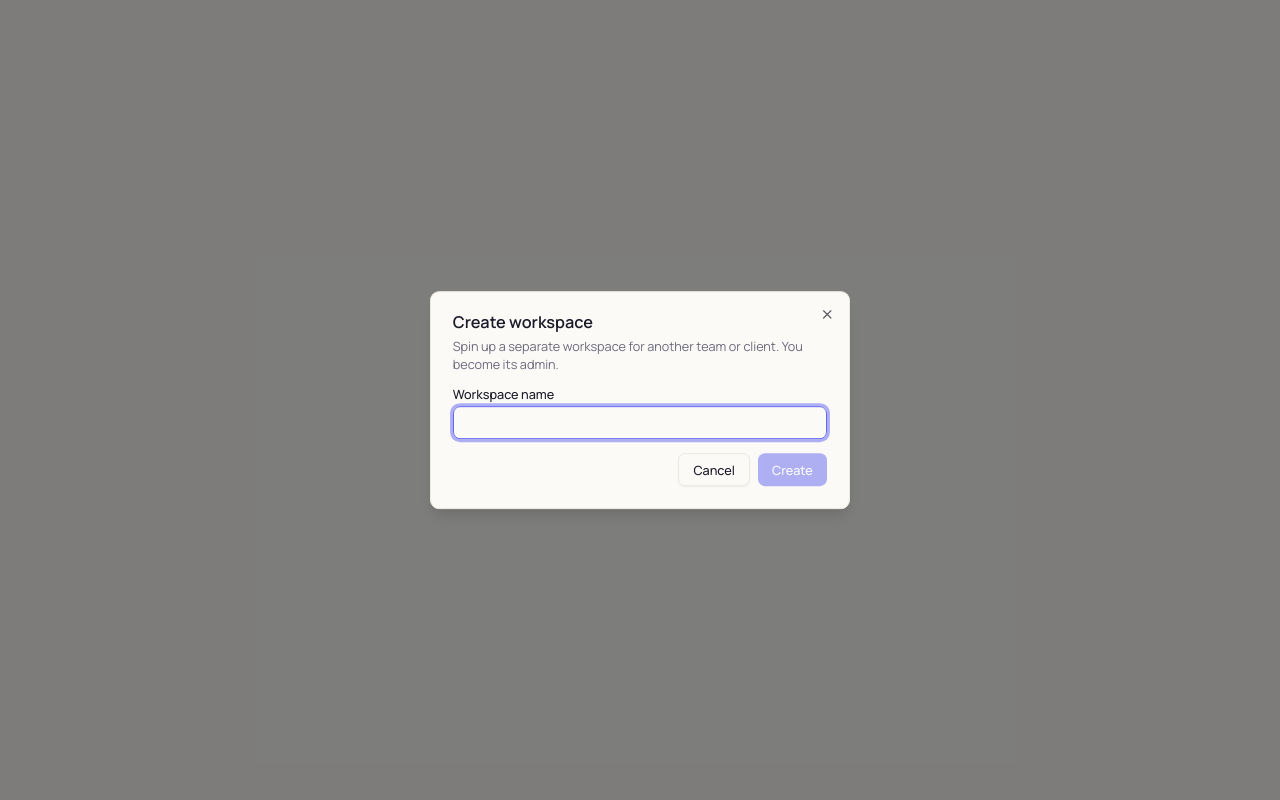
Scenario: CreateWorkspaceDialog › shows a localized error (not "HTTP 4xx") when create fails
Type "X" into the field with test id "workspace-name-input". click: (640, 423)
box: [453,406,827,439]
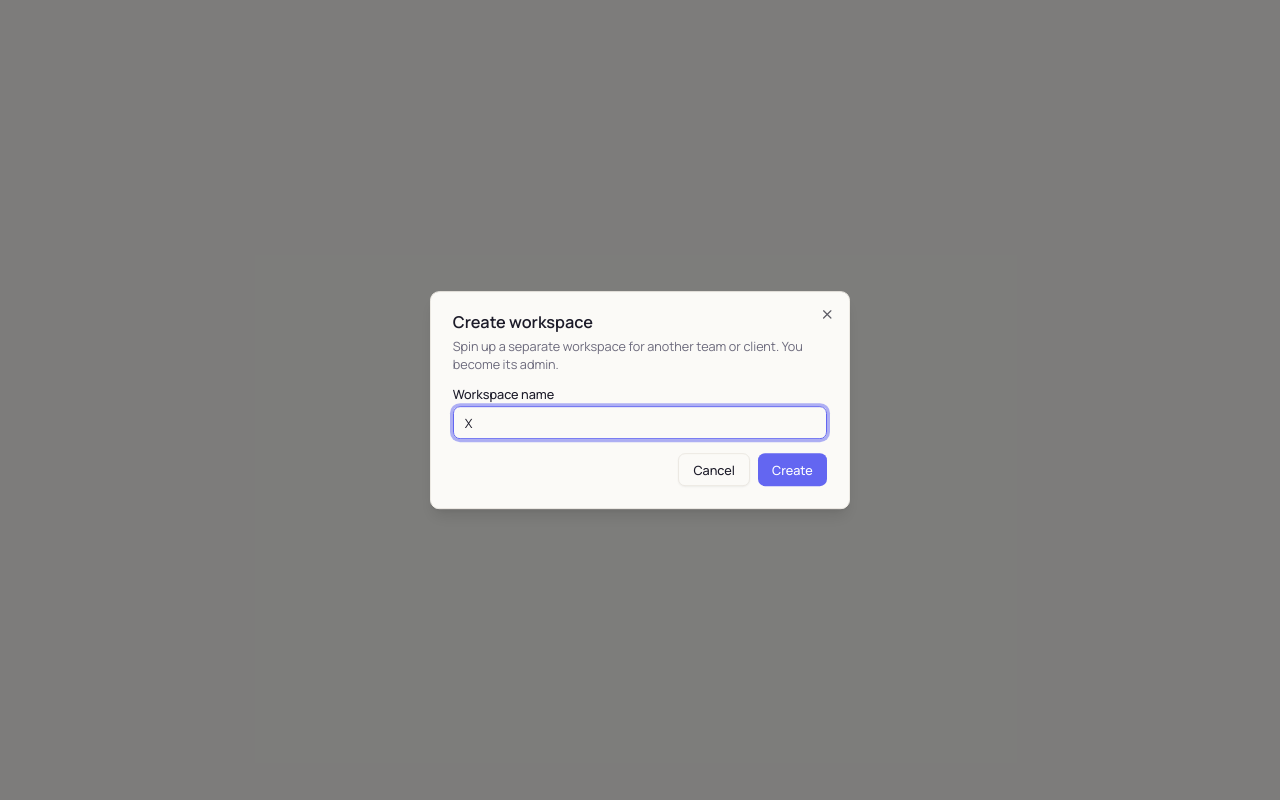
Submit the form with test id "create-workspace-form", box [453,388,827,486]
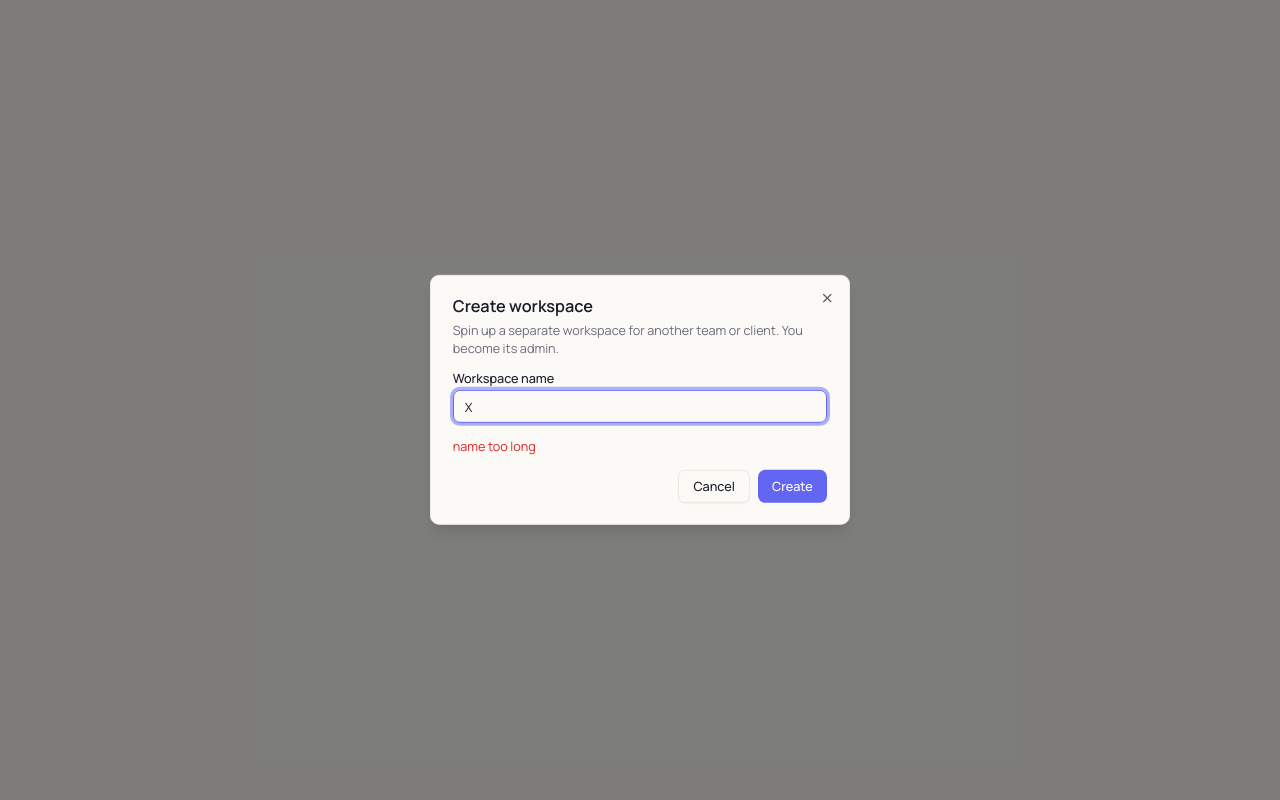
Expected: the message with test id "create-workspace-error" reads "name too long", [453,437,536,455]
